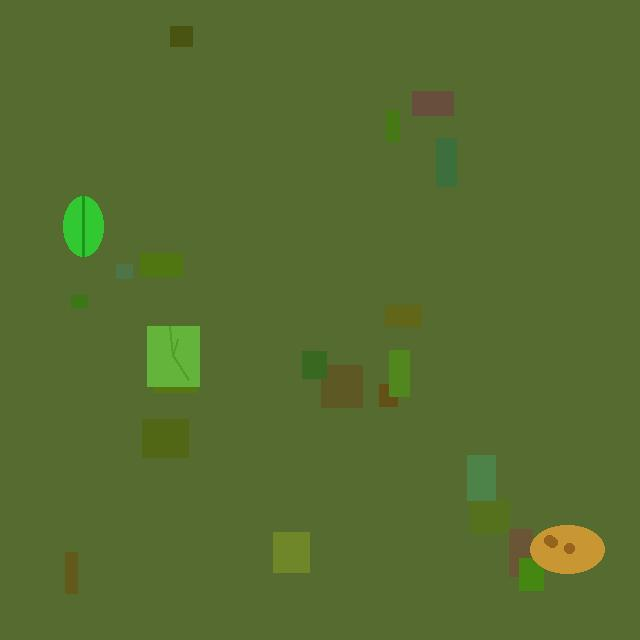damaged_crop: (530, 524, 605, 573)
healthy_crop: (63, 196, 104, 256)
weed: (147, 326, 199, 386)
